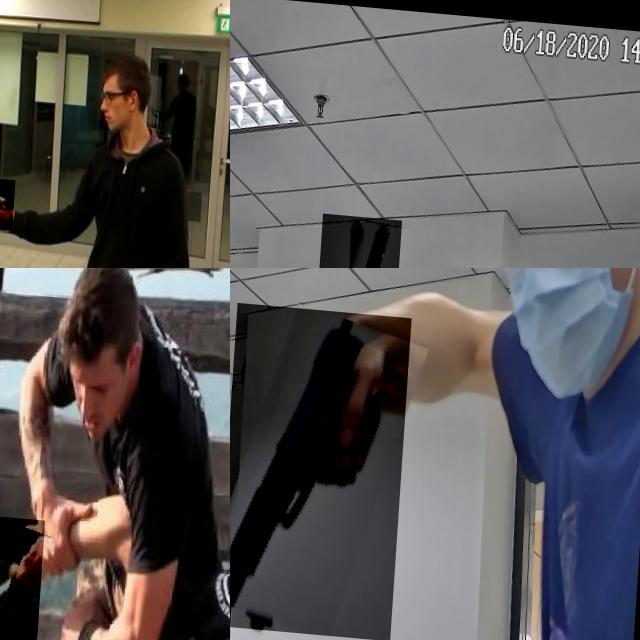-: (0, 510, 52, 640)
gun-knife-thesis - v11 Yolov5 augmented: (230, 298, 415, 634), (314, 208, 405, 268), (0, 171, 28, 226)
